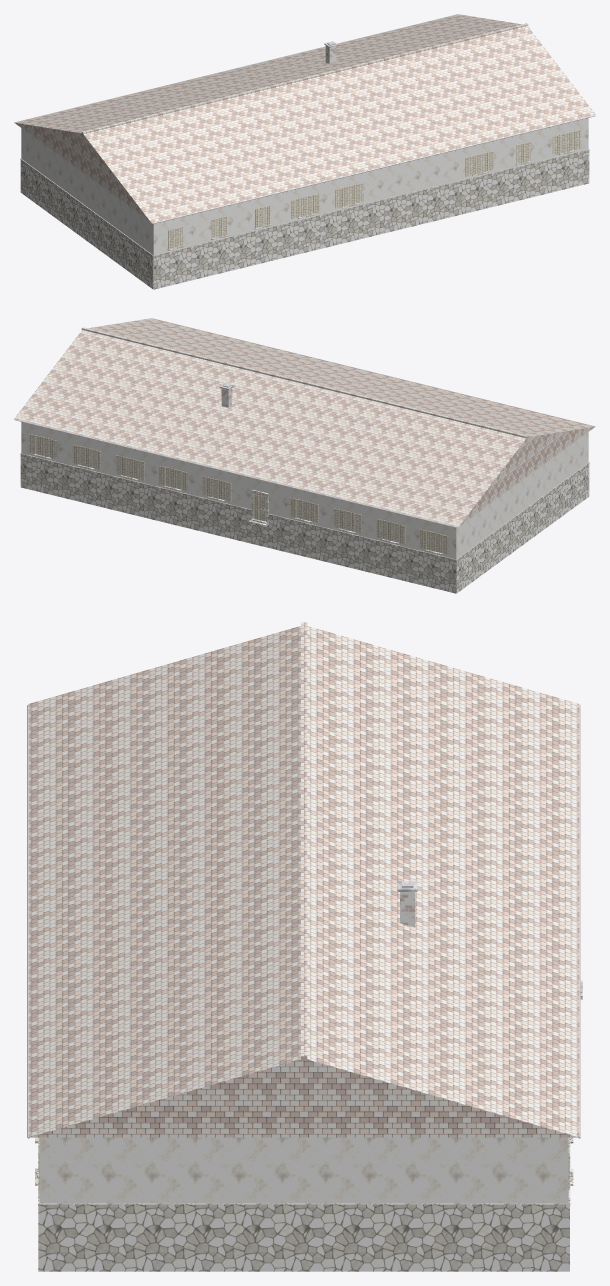
3 renders of one model, top to bottom at view 1: azimuth 30°, elevation 25°; view 2: azimuth 150°, elevation 25°; view 3: azimuth 270°, elevation 25°, orthographic. The views are drawn at different scales.
Visible parts, largest first — view 1: b1082825667; view 2: b1082825667; view 3: b1082825667.
Boxes of the visible parts, x1=… form: b1082825667: x1=14, y1=14, x2=595, y2=289; b1082825667: x1=14, y1=318, x2=595, y2=593; b1082825667: x1=27, y1=622, x2=582, y2=1271.
Bounding box in the file's own units: 33.12 × 8.04 × 17.9.
Materials: 18 (18 with a texture image).
